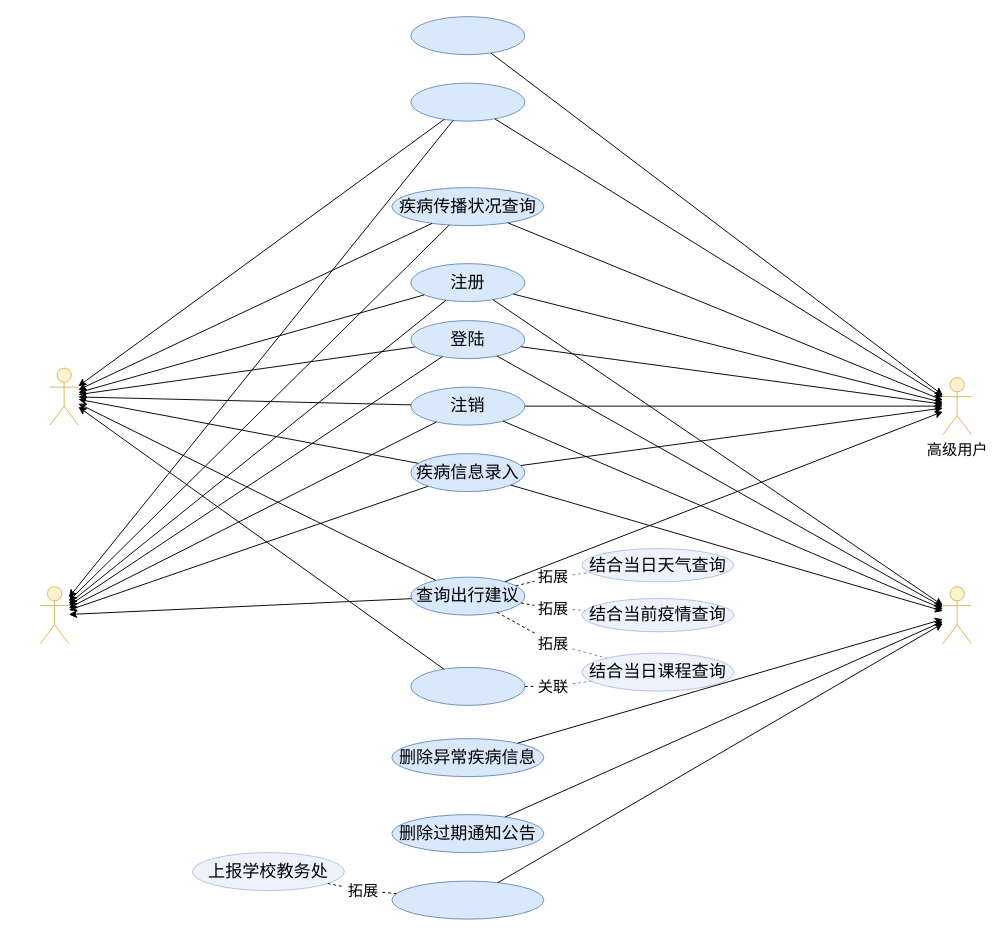
Image size: 1004x936. Some labels were removed from this diagram. Each missing label, with the box of its shape:
发布通知公告: (410, 16, 525, 55)
封禁相关用户: (391, 880, 544, 919)
普通学生: (49, 367, 78, 425)
普通教职工: (39, 586, 69, 644)
查看通知公告: (410, 82, 525, 121)
管理员: (942, 586, 971, 644)
课程信息录入: (410, 666, 525, 705)
